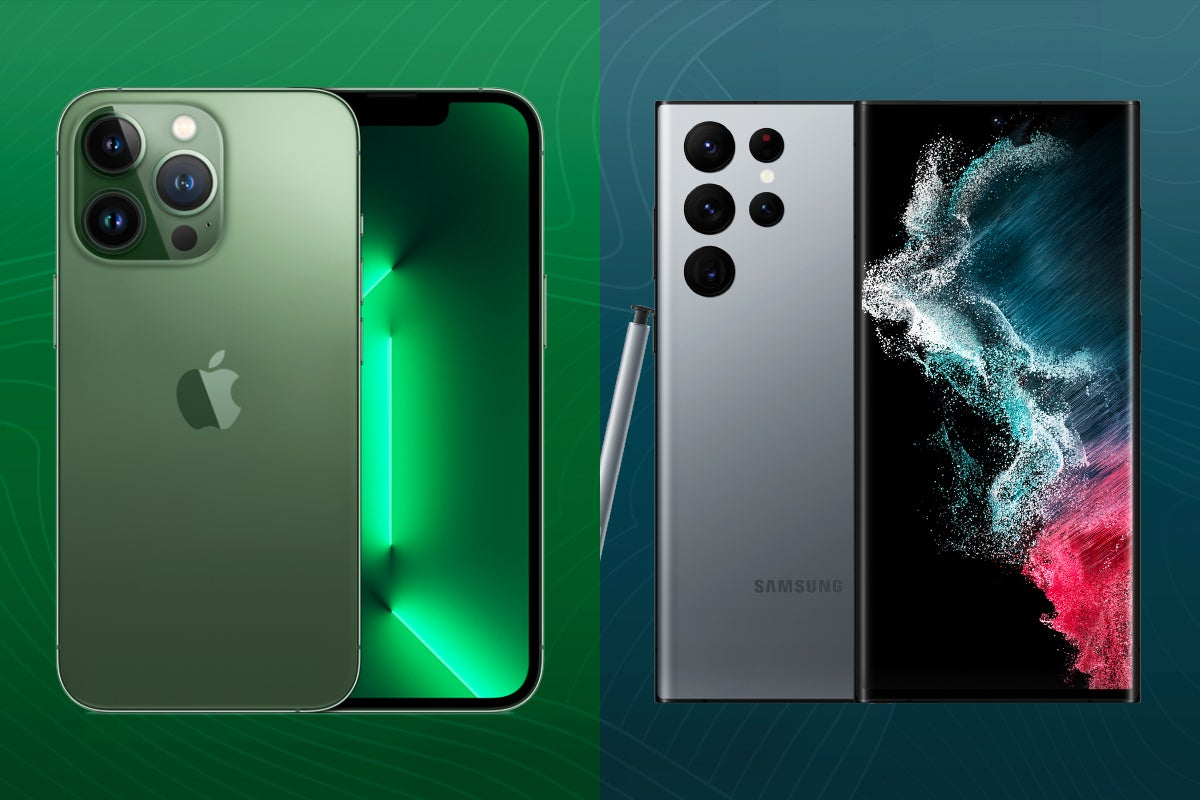phones: (31, 77, 382, 730), (858, 101, 1138, 695), (362, 88, 553, 719), (660, 106, 847, 701)
